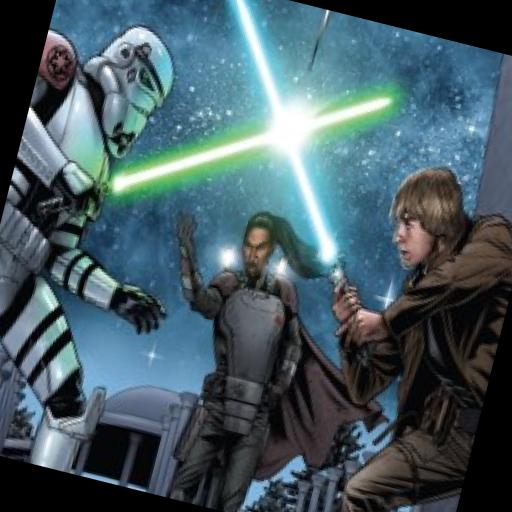human: (275, 149, 512, 512), (110, 190, 334, 512)
lightsaber: (151, 0, 454, 367), (32, 16, 394, 292)
